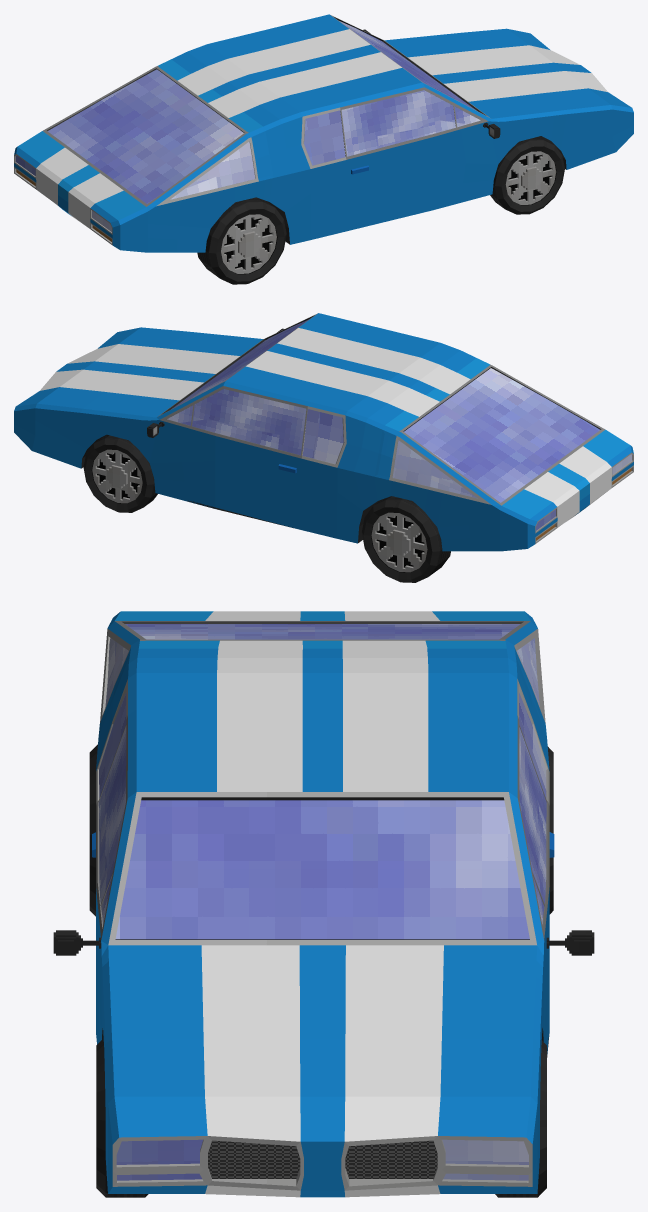
Rendered from Jackfruit_Roadster.fbx.
3 views of the same model, one above another, from view 1: azimuth 30°, elevation 25°; view 2: azimuth 150°, elevation 25°; view 3: azimuth 270°, elevation 25° (orthographic). The views are drawn at different scales.
Parts seen in each view (by area): view 1: Jackfruit_Roadster, Trunk_Glass, Door_R, Trunk, Tire_RR, Door_R_Glass, Windows, Tire_FR; view 2: Jackfruit_Roadster, Trunk_Glass, Door_L, Trunk, Tire_RL, Door_L_Glass, Windows, Tire_FL; view 3: Jackfruit_Roadster, Windows, Trunk, Trunk_Glass, Door_L_Glass, Door_R_Glass, Door_L, Door_R, Tire_FR, Tire_FL, Tire_RR, SideViewMirror_2 (+1 smaller).
Boxes of the visible parts, x1=… form: Jackfruit_Roadster: x1=14, y1=14, x2=633, y2=252; Trunk_Glass: x1=47, y1=69, x2=243, y2=203; Door_R: x1=340, y1=87, x2=498, y2=230; Trunk: x1=17, y1=59, x2=262, y2=220; Tire_RR: x1=197, y1=197, x2=286, y2=284; Door_R_Glass: x1=341, y1=90, x2=480, y2=156; Windows: x1=15, y1=21, x2=475, y2=231; Tire_FR: x1=490, y1=136, x2=564, y2=214; Jackfruit_Roadster: x1=14, y1=313, x2=633, y2=551; Trunk_Glass: x1=404, y1=368, x2=599, y2=502; Door_L: x1=149, y1=386, x2=307, y2=529; Trunk: x1=385, y1=358, x2=630, y2=518; Tire_RL: x1=361, y1=496, x2=450, y2=582; Door_L_Glass: x1=167, y1=389, x2=306, y2=455; Windows: x1=172, y1=319, x2=632, y2=530; Tire_FL: x1=83, y1=435, x2=157, y2=512; Jackfruit_Roadster: x1=96, y1=612, x2=549, y2=1197; Windows: x1=99, y1=638, x2=546, y2=1180; Trunk: x1=115, y1=611, x2=530, y2=648; Trunk_Glass: x1=125, y1=624, x2=520, y2=639; Door_L_Glass: x1=519, y1=727, x2=546, y2=924; Door_R_Glass: x1=98, y1=727, x2=126, y2=924; Door_L: x1=517, y1=715, x2=549, y2=1054; Door_R: x1=96, y1=716, x2=127, y2=1044; Tire_FR: x1=96, y1=1038, x2=148, y2=1197; Tire_FL: x1=495, y1=1040, x2=546, y2=1197; Tire_RR: x1=89, y1=744, x2=97, y2=916; SideViewMirror_2: x1=546, y1=930, x2=594, y2=955.
Bounding box in the file's own units: 295 × 81.12 × 132.
Materials: 9 (9 with a texture image).
